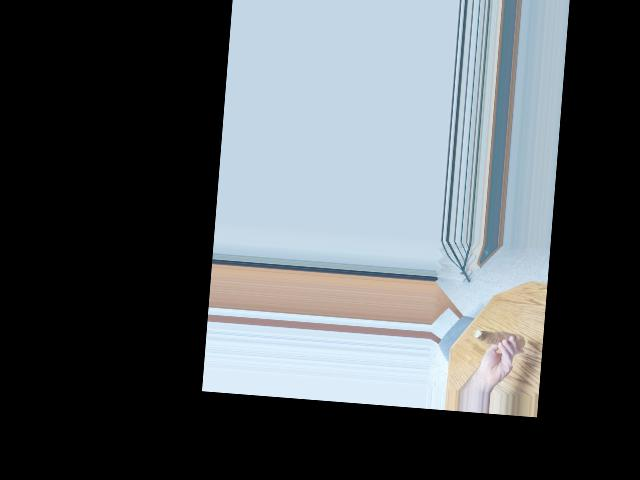sweet_potato: (472, 330, 517, 344)
